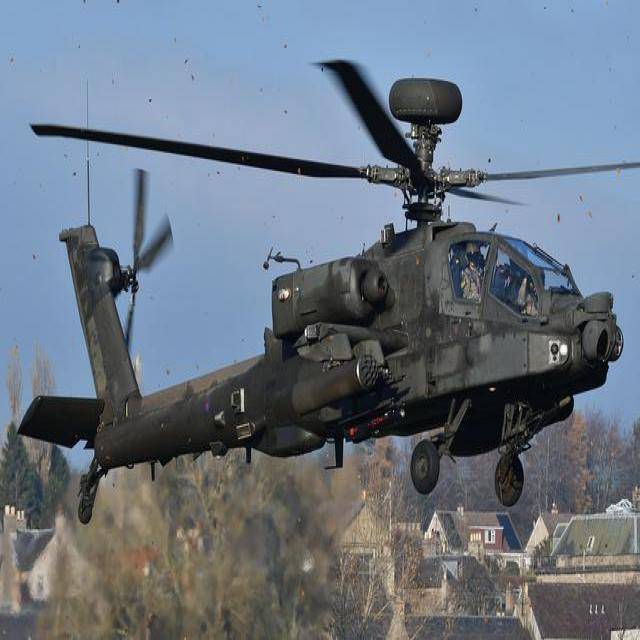MIL_HELO: (17, 53, 640, 507)
